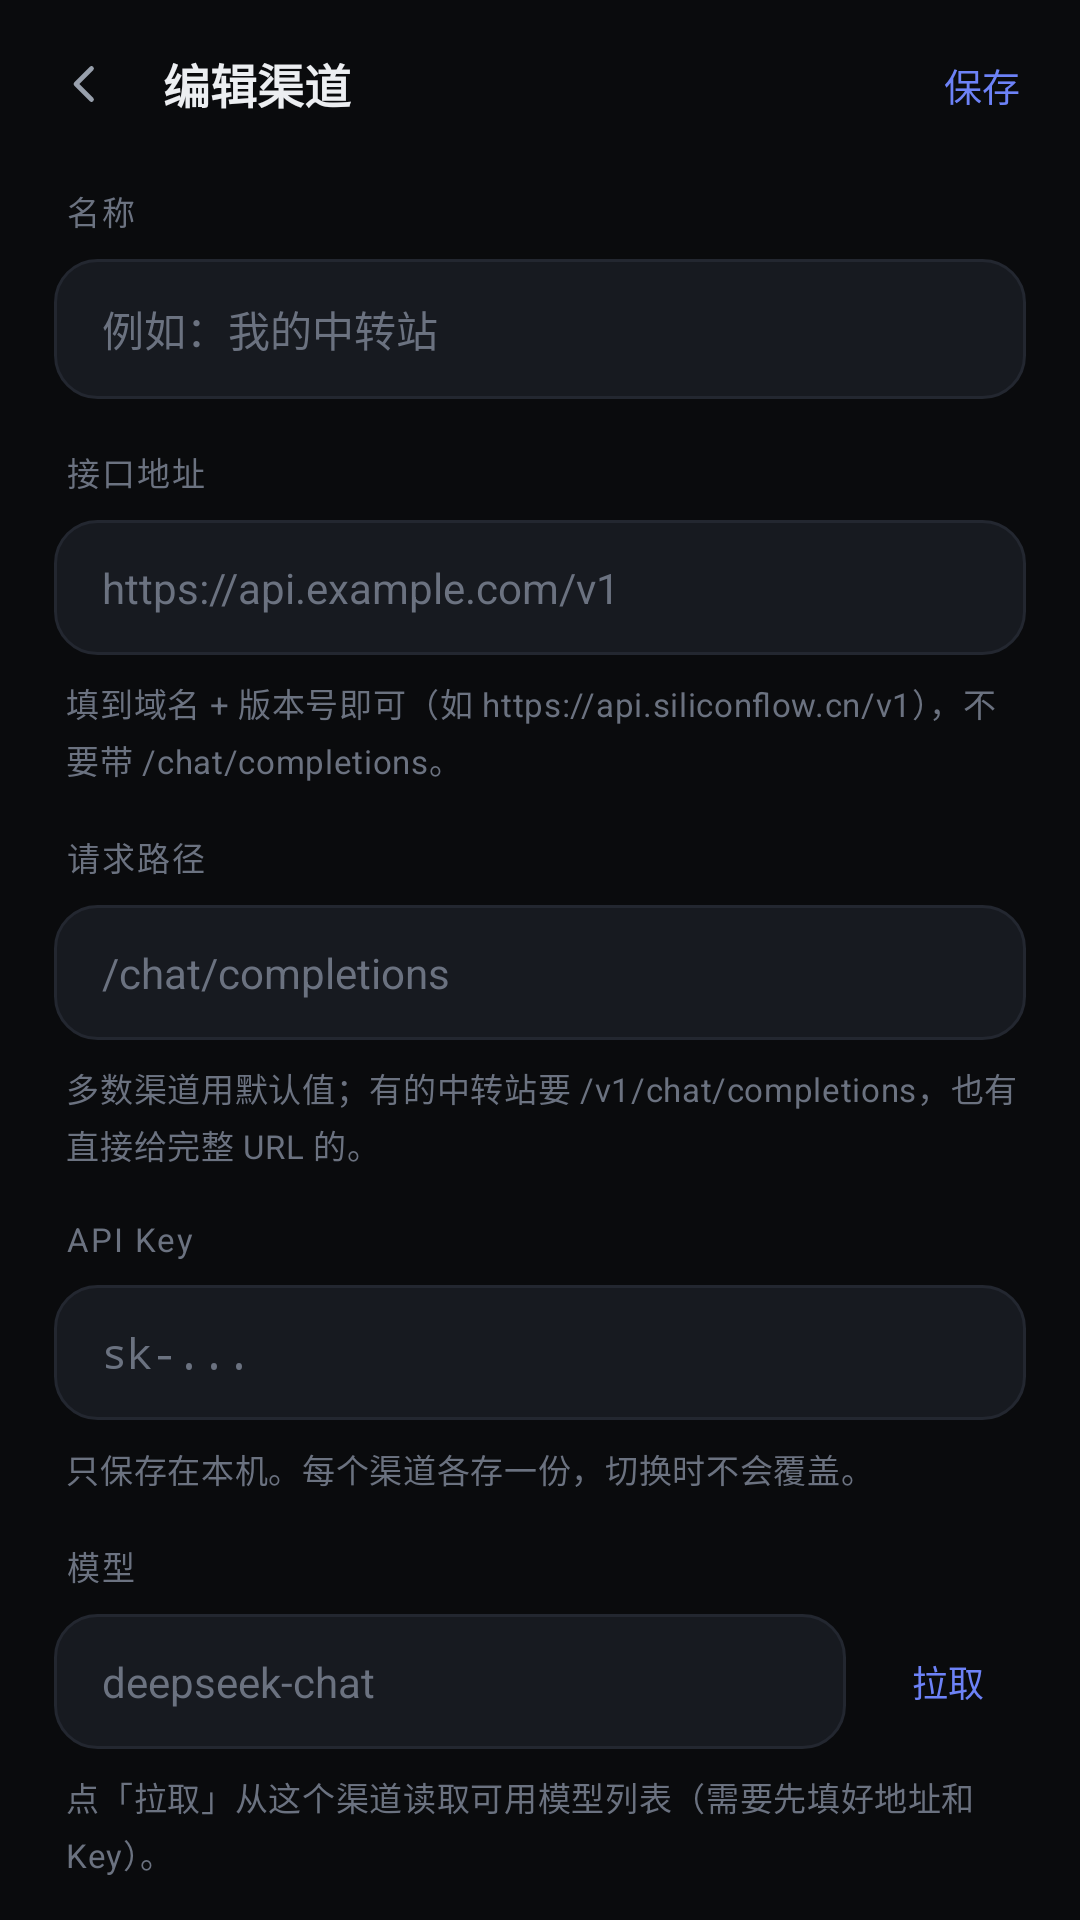

Named icons in this screenshot (1080*1920) and their centers, point (x, y):
返回: point (83, 84)
